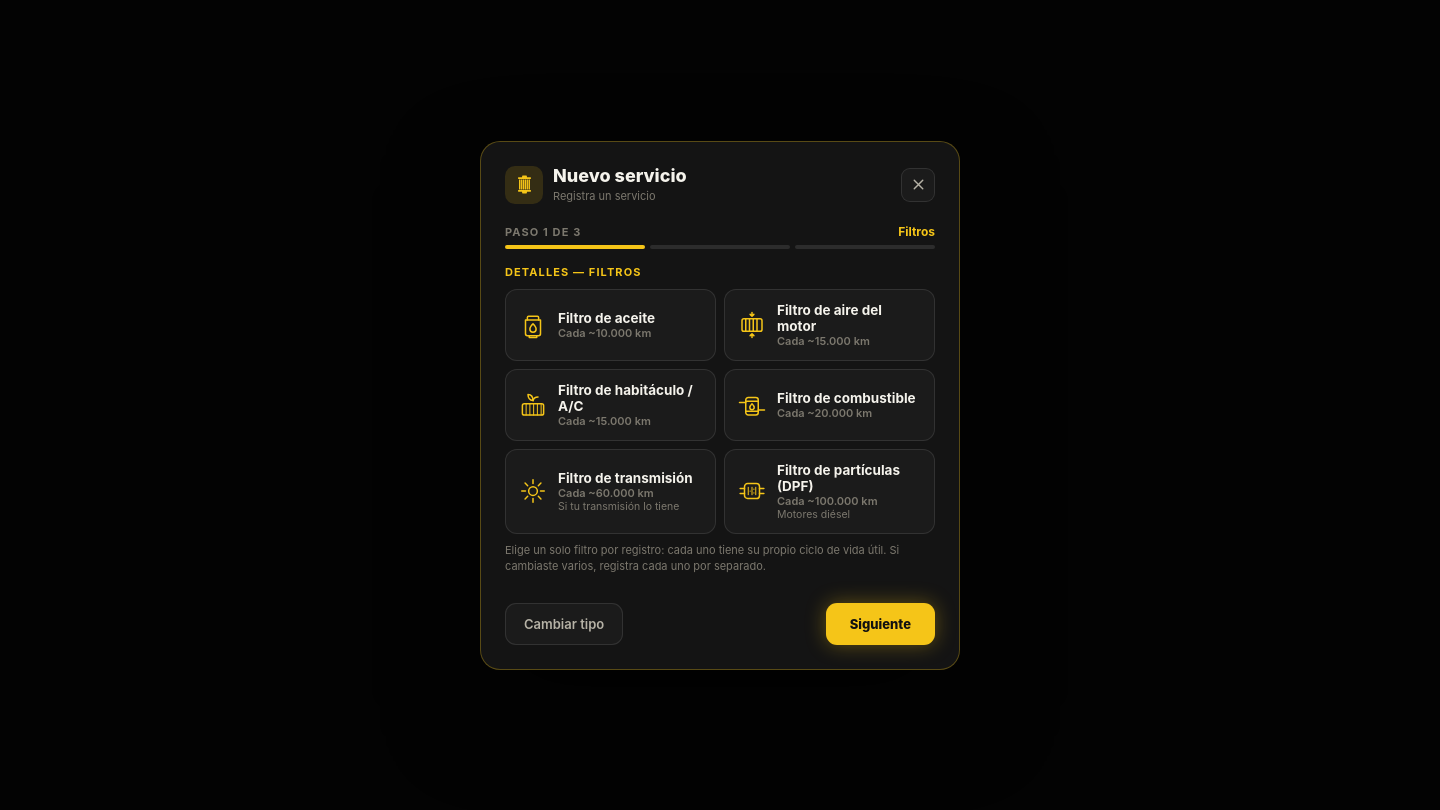
Test: Registrar servicio > Filtros (paso 1) › "Flujo de aire verificado" solo aparece con el filtro de aire
Expected: the text "Flujo de aire verificado" is not shown
Click the radio button labelled "Filtro de aire del motor Cada ~15.000 km": (830, 324) [724,288,935,360]
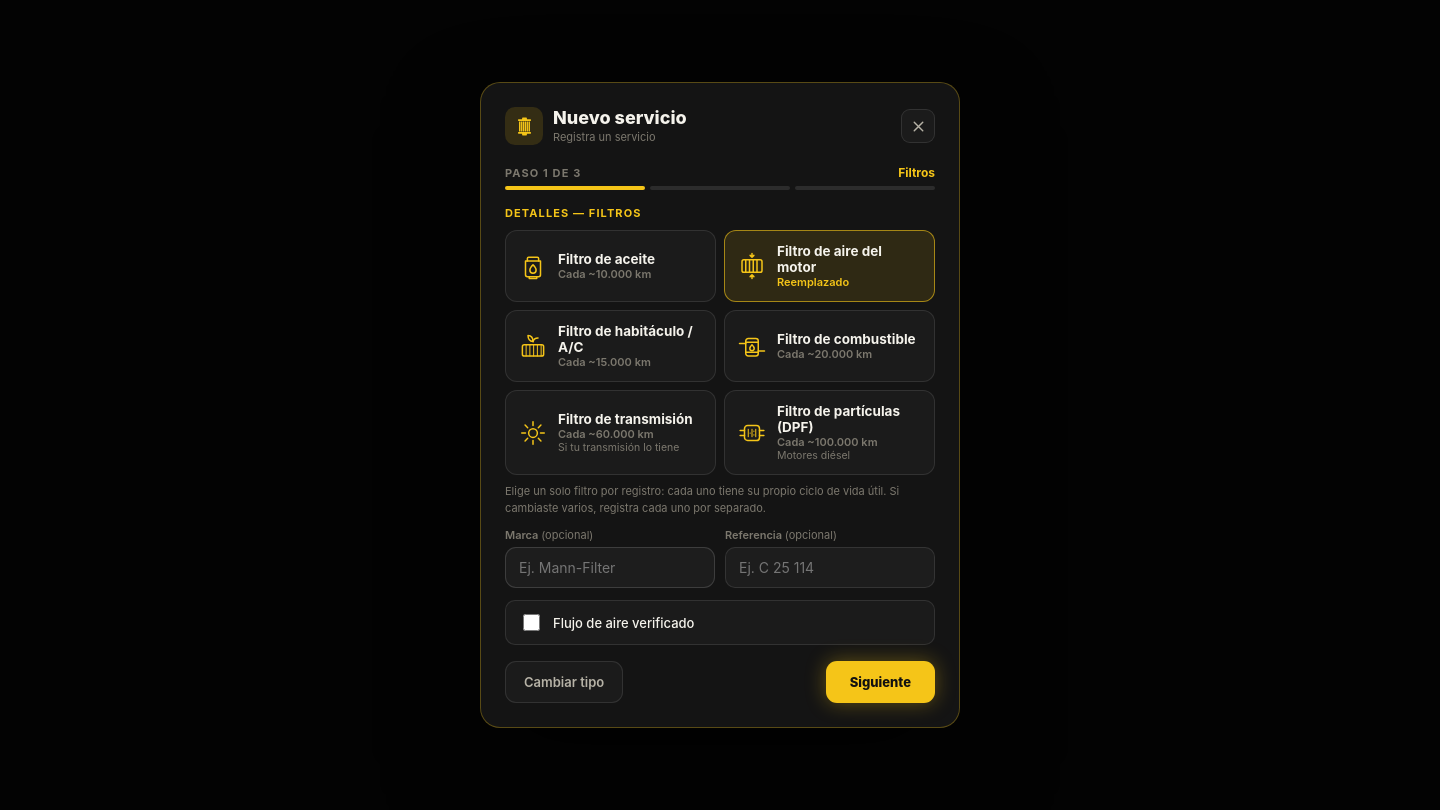
Now the text "Flujo de aire verificado" is shown, box [505,600,935,645]
Click the radio button labelled "Filtro de aceite Cada ~10.000 km": (610, 266) [505,230,716,302]
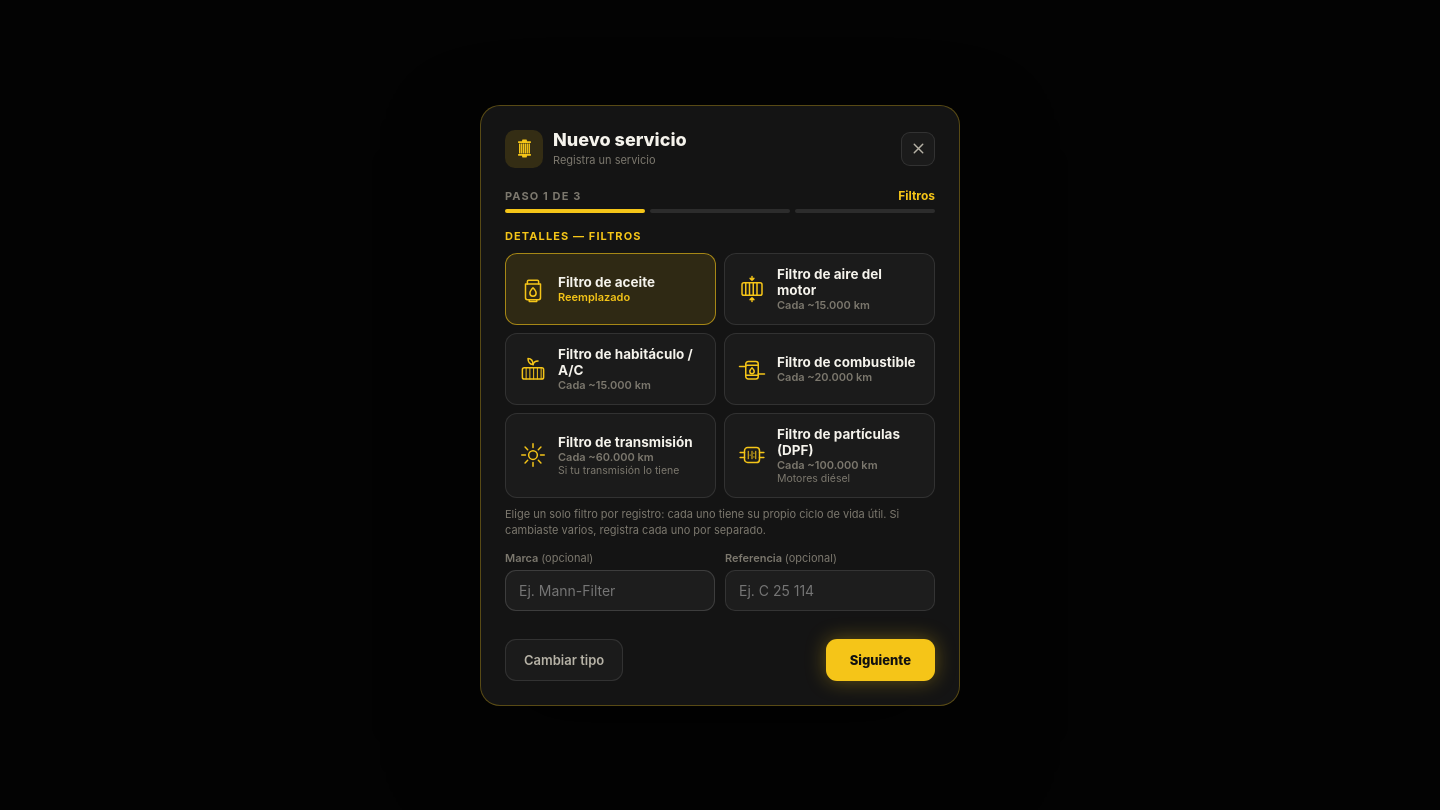
Now the text "Flujo de aire verificado" is gone
